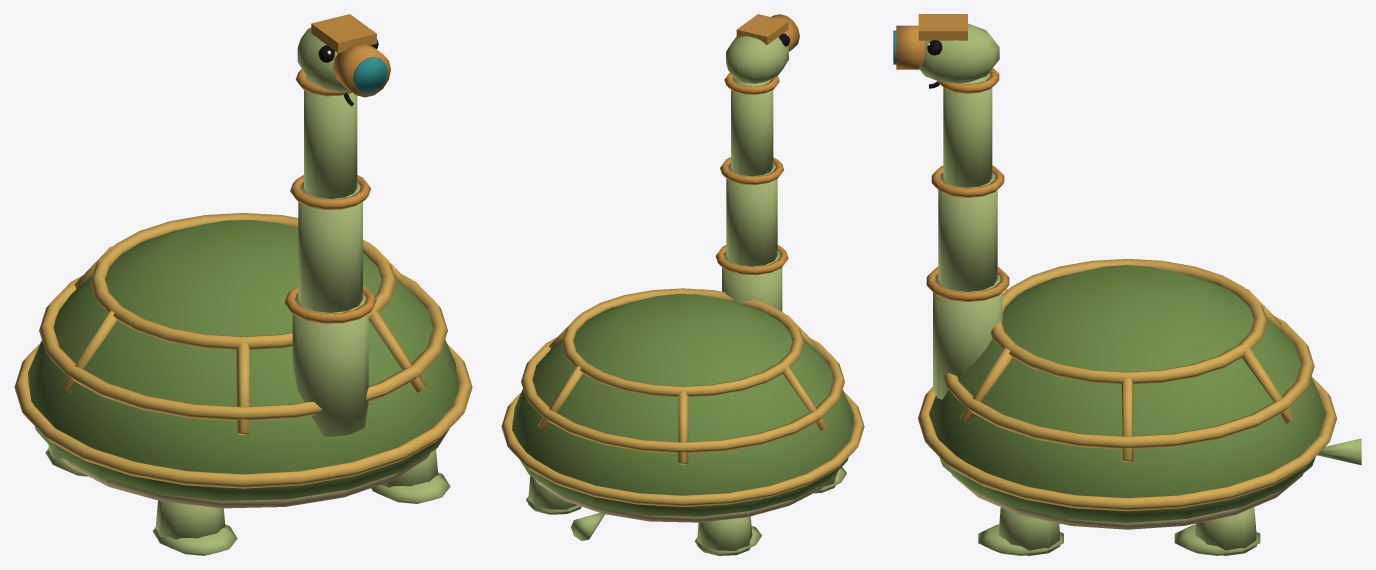
The model's file is periscope_tortoise.glb.
3 views of the same model, side by side, from view 1: azimuth 30°, elevation 25°; view 2: azimuth 150°, elevation 25°; view 3: azimuth 270°, elevation 25° (orthographic). The views are drawn at different scales.
Parts seen in each view (by area): view 1: Shell, NeckA, NeckB, NeckC, Head, Leg1, Leg0; view 2: Shell, NeckB, NeckC, Head, NeckA, Leg3, Leg2, Tail; view 3: Shell, NeckB, Head, NeckA, NeckC, Leg2, Leg0, Tail.
Boxes of the visible parts, <box> form: Shell: <box>14,213,472,508</box>; NeckA: <box>284,285,376,436</box>; NeckB: <box>290,175,370,312</box>; NeckC: <box>295,69,357,199</box>; Head: <box>297,14,390,106</box>; Leg1: <box>152,500,237,555</box>; Leg0: <box>371,449,450,503</box>; Shell: <box>501,288,864,522</box>; NeckB: <box>720,157,783,266</box>; NeckC: <box>724,73,779,176</box>; Head: <box>726,14,799,83</box>; NeckA: <box>715,245,788,311</box>; Leg3: <box>694,516,761,555</box>; Leg2: <box>526,476,581,514</box>; Tail: <box>571,512,604,540</box>; Shell: <box>918,259,1336,529</box>; NeckB: <box>931,165,1004,291</box>; Head: <box>893,14,999,88</box>; NeckA: <box>926,266,1009,399</box>; NeckC: <box>937,68,999,187</box>; Leg2: <box>1174,507,1260,555</box>; Leg0: <box>978,507,1063,555</box>; Tail: <box>1317,438,1361,465</box>.
Size of the model in its own units: 2.05 by 2.58 by 2.29.
